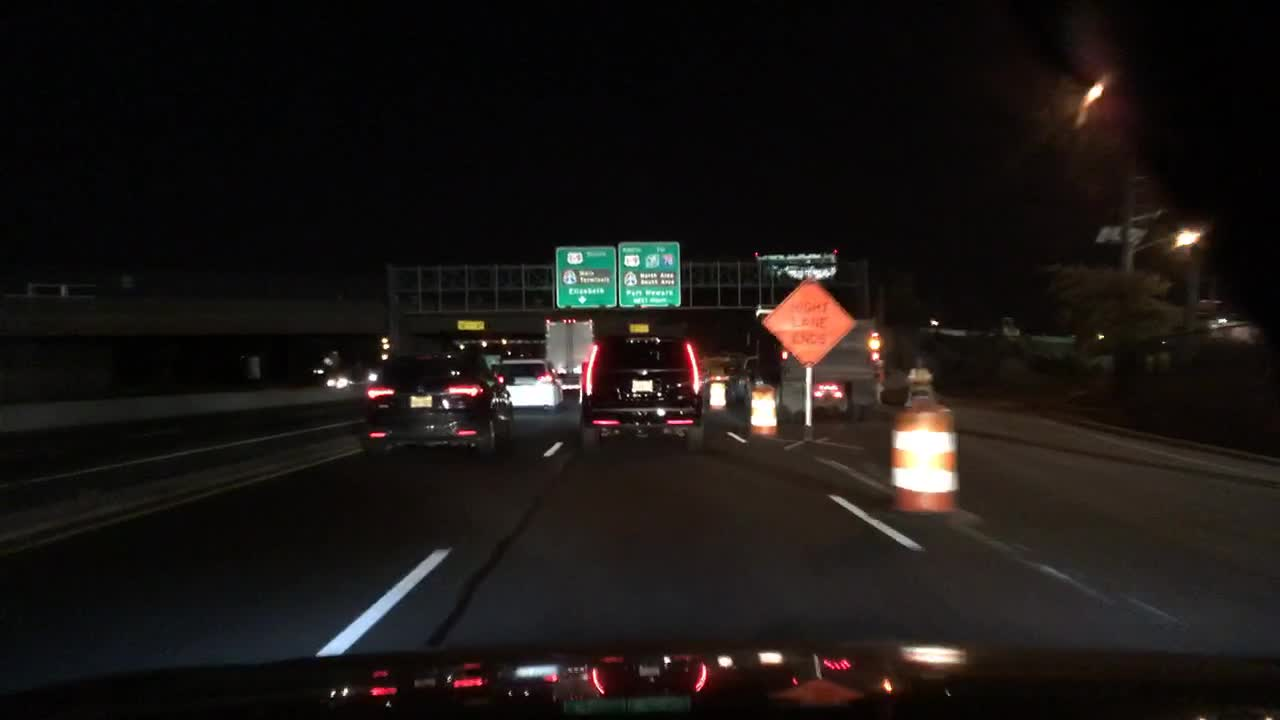car: (355, 345, 518, 467), (572, 327, 707, 458), (487, 355, 569, 418), (749, 243, 843, 285), (684, 348, 740, 406), (716, 346, 761, 411), (6, 278, 97, 301), (476, 353, 504, 374), (322, 371, 352, 390), (362, 367, 382, 381), (308, 366, 328, 378)
traffic sign: (756, 269, 859, 373), (614, 240, 681, 310), (553, 245, 618, 308), (455, 317, 488, 334), (626, 320, 651, 334)
truck: (749, 304, 887, 429), (539, 317, 597, 395)
